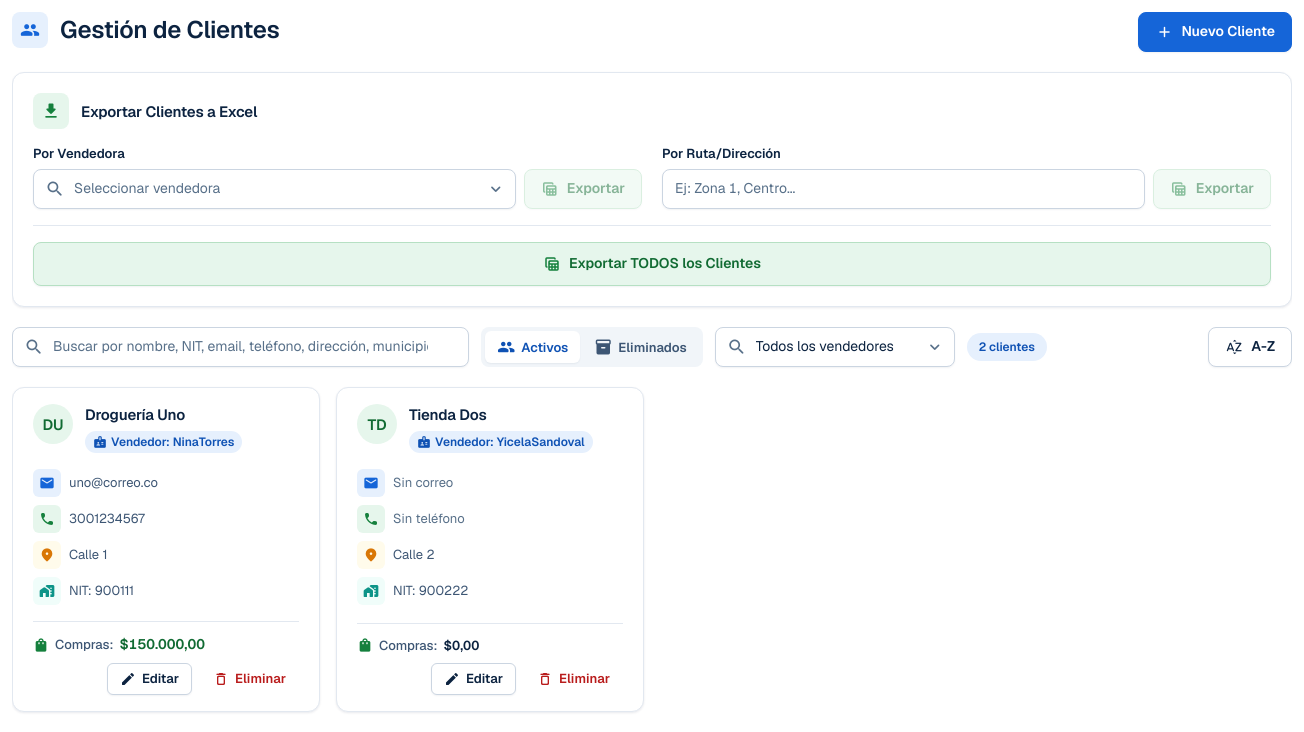
Test: tenía historial (ARCHIVED): toast que explica que se conserva y se puede restaurar
Expected: the heading "Droguería Uno" is shown, [85,404,185,425]
Click the button with aria-label "Eliminar cliente Droguería Uno" at (250, 679), box [200,663,299,695]
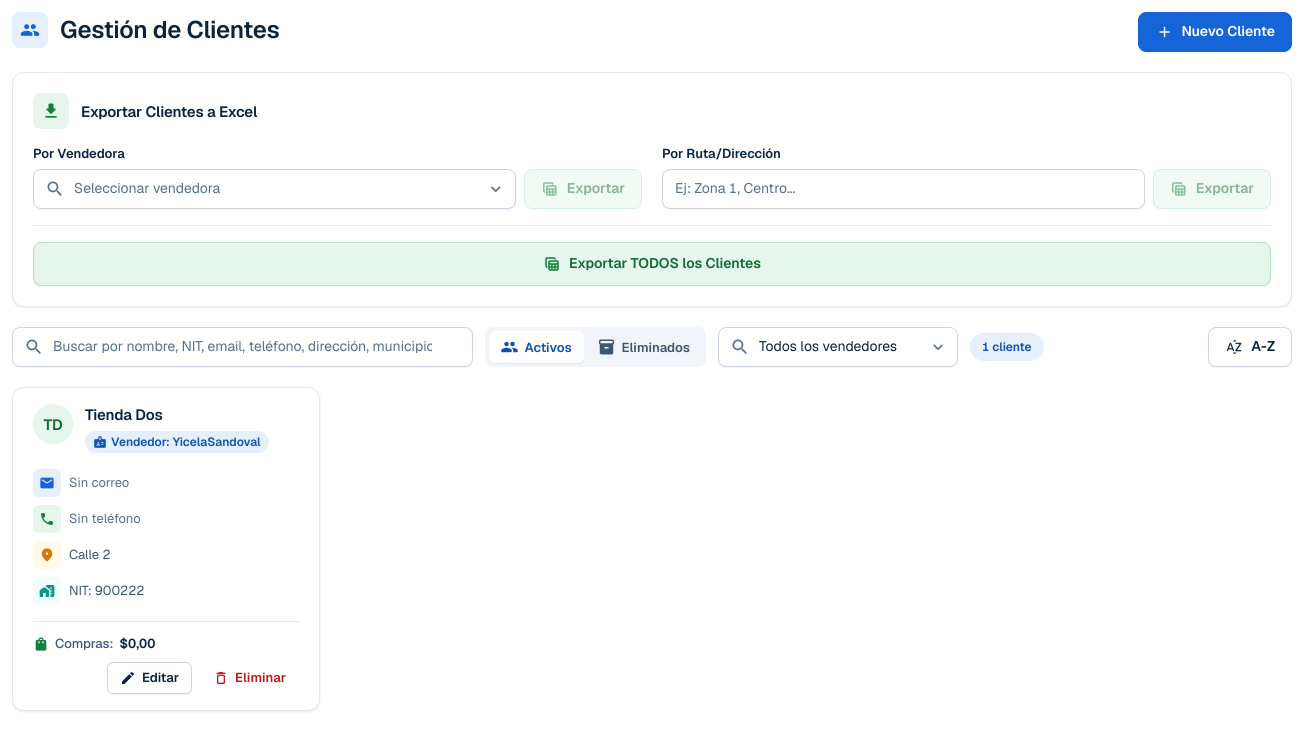
Expected: the heading "Tienda Dos" is shown, [85,404,163,425]
Expected: the heading "Droguería Uno" is gone
